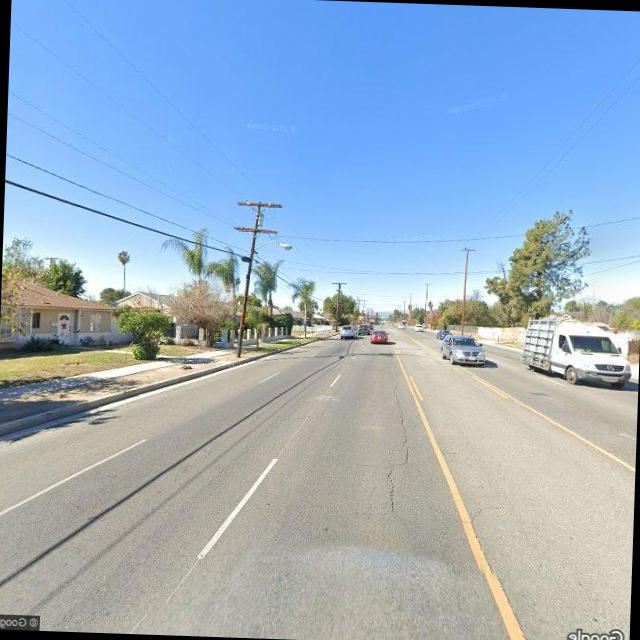crack: (374, 369, 411, 526)
